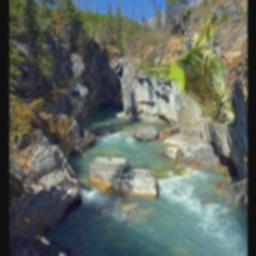Sparrow: (145, 12, 235, 127)
